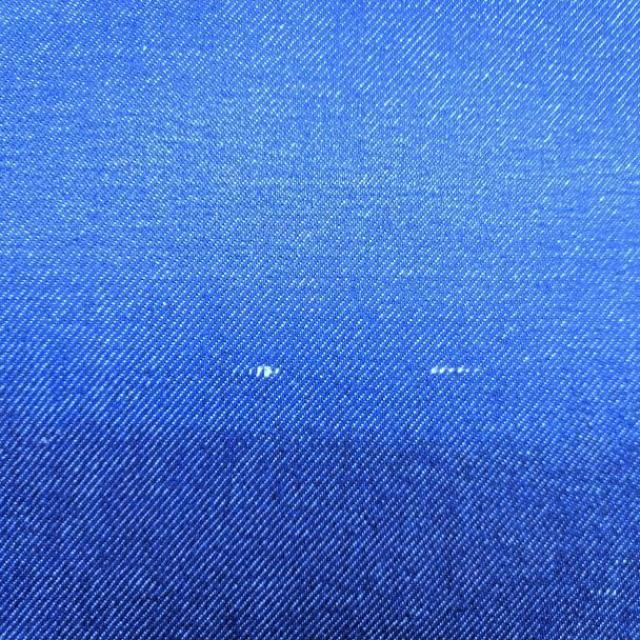Knot: (431, 365, 479, 376), (248, 364, 281, 379)
